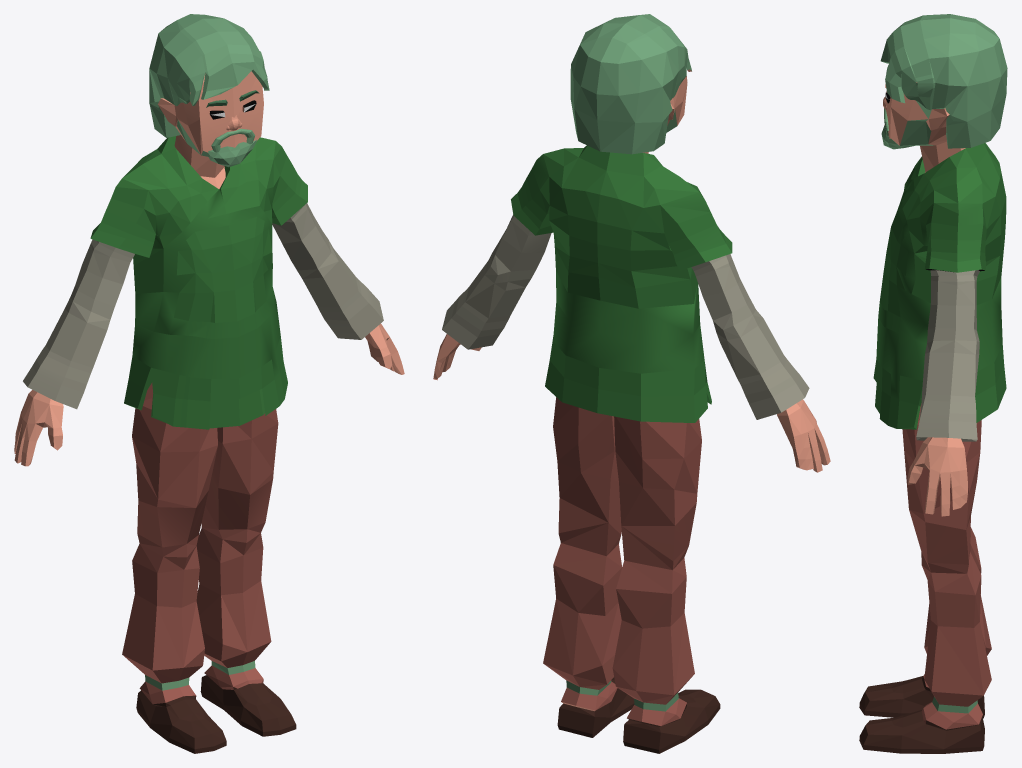
File: XR_model_kumpel.fbx
The picture shows the model from 3 angles, left to right: view 1: azimuth 30°, elevation 25°; view 2: azimuth 150°, elevation 25°; view 3: azimuth 270°, elevation 25°; orthographic projection. The views are drawn at different scales.
Parts seen in each view (by area): view 1: Character_Female_Hotel Owner.001; view 2: Character_Female_Hotel Owner.001; view 3: Character_Female_Hotel Owner.001.
Boxes of the visible parts, x1,y1,x2,y2 form: Character_Female_Hotel Owner.001: (14,14,404,753); Character_Female_Hotel Owner.001: (433,14,830,753); Character_Female_Hotel Owner.001: (859,14,1007,753).
Bounding box in the file's own units: 97.36 × 170 × 32.13.
